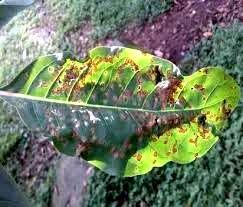Xanthomonas: (2, 43, 243, 178)
